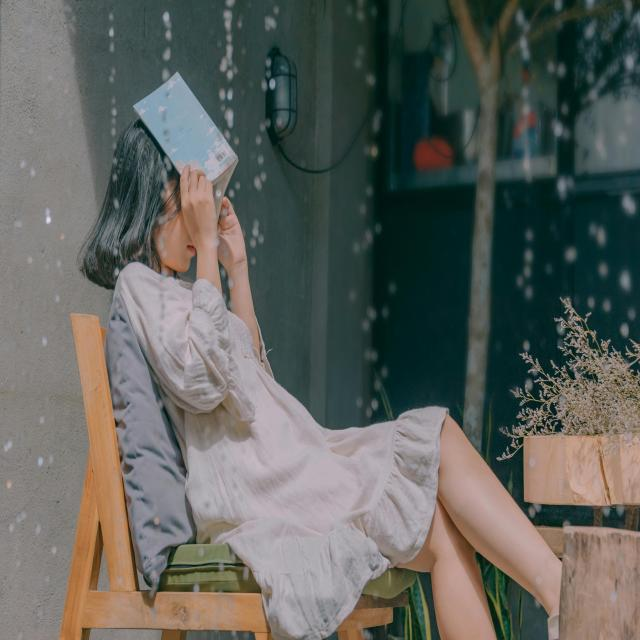sit: (95, 73, 576, 640)
